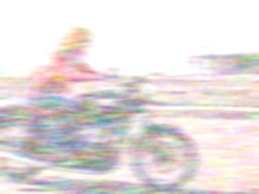Vehicle: (0, 67, 198, 189)
